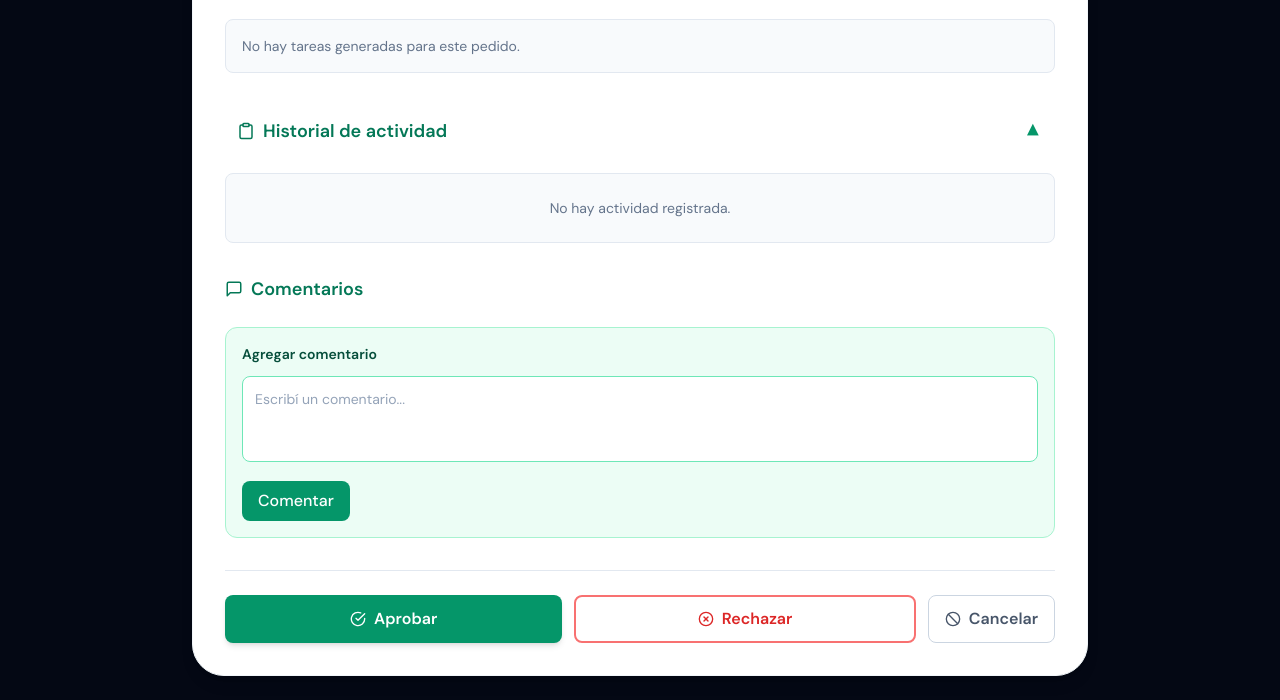
Test: PedidoDetalle — aprobar, rechazar y cancelar › muestra el error si no se puede cancelar
(page scrolled)
Click the button "Cancelar".
click(991, 619)  # box [928, 595, 1055, 643]
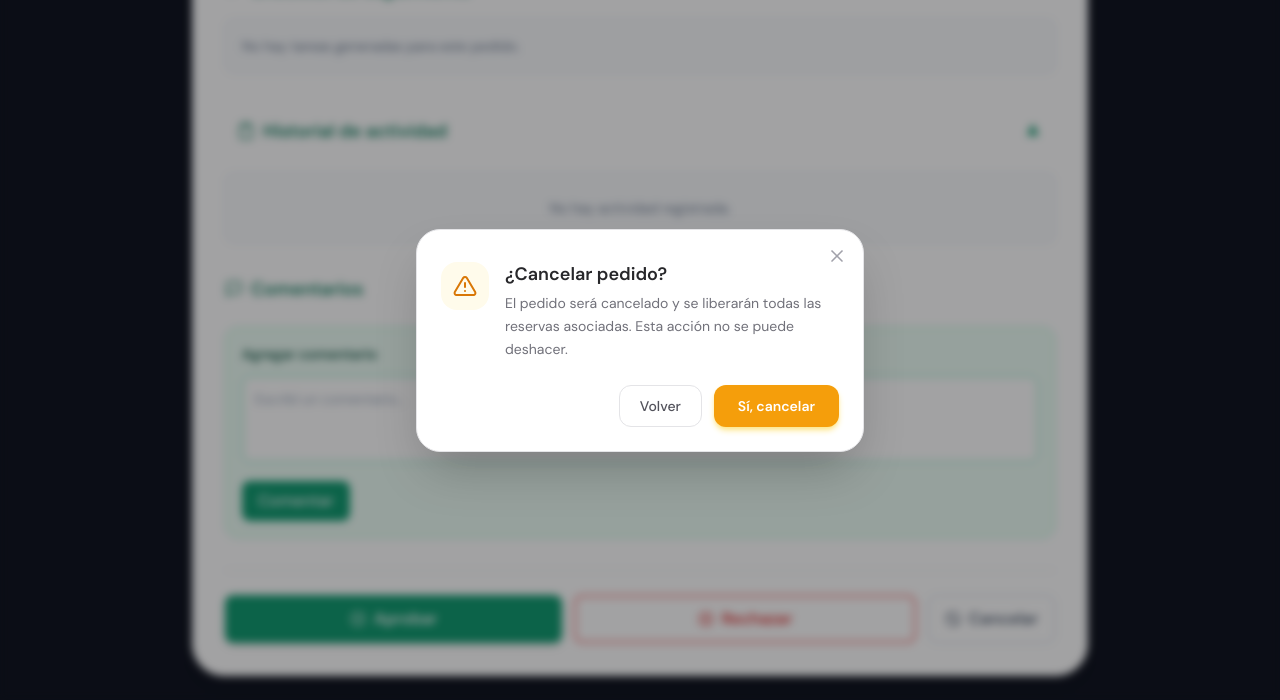
Click the button "Sí, cancelar".
click(776, 406)  # box [714, 384, 839, 426]
(page scrolled)
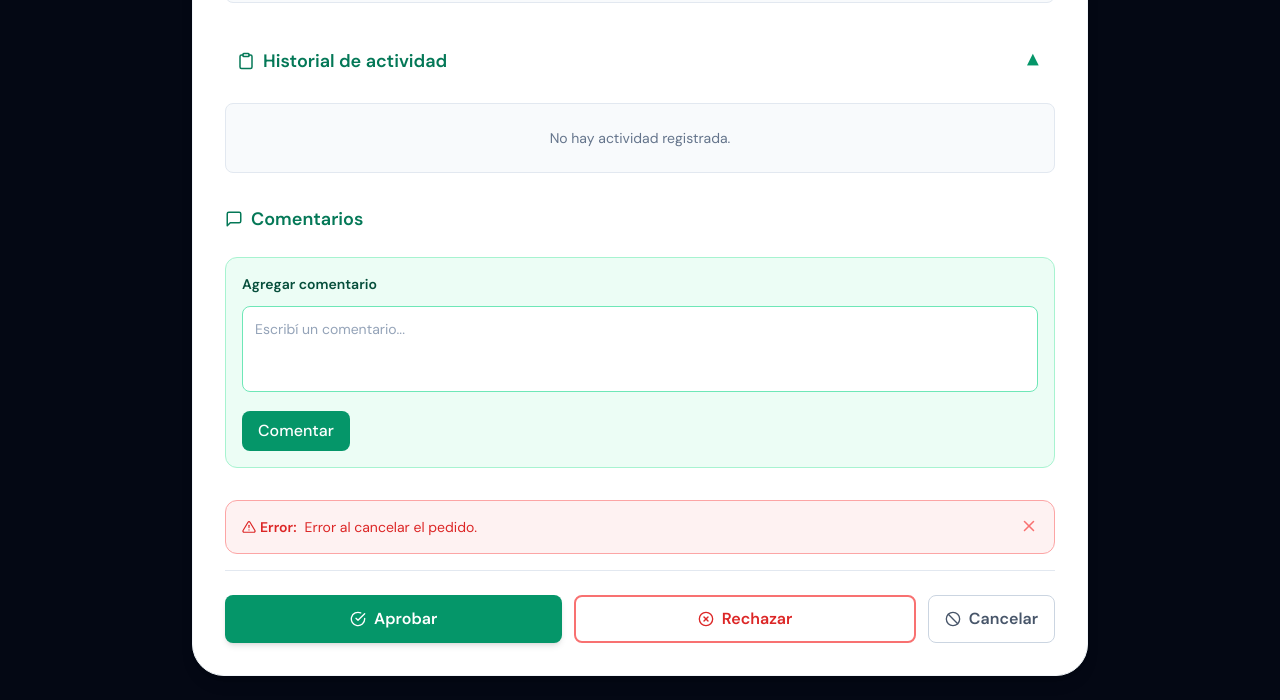
expect the text "Error al cancelar el pedido." is shown: met, box [305, 518, 477, 536]
